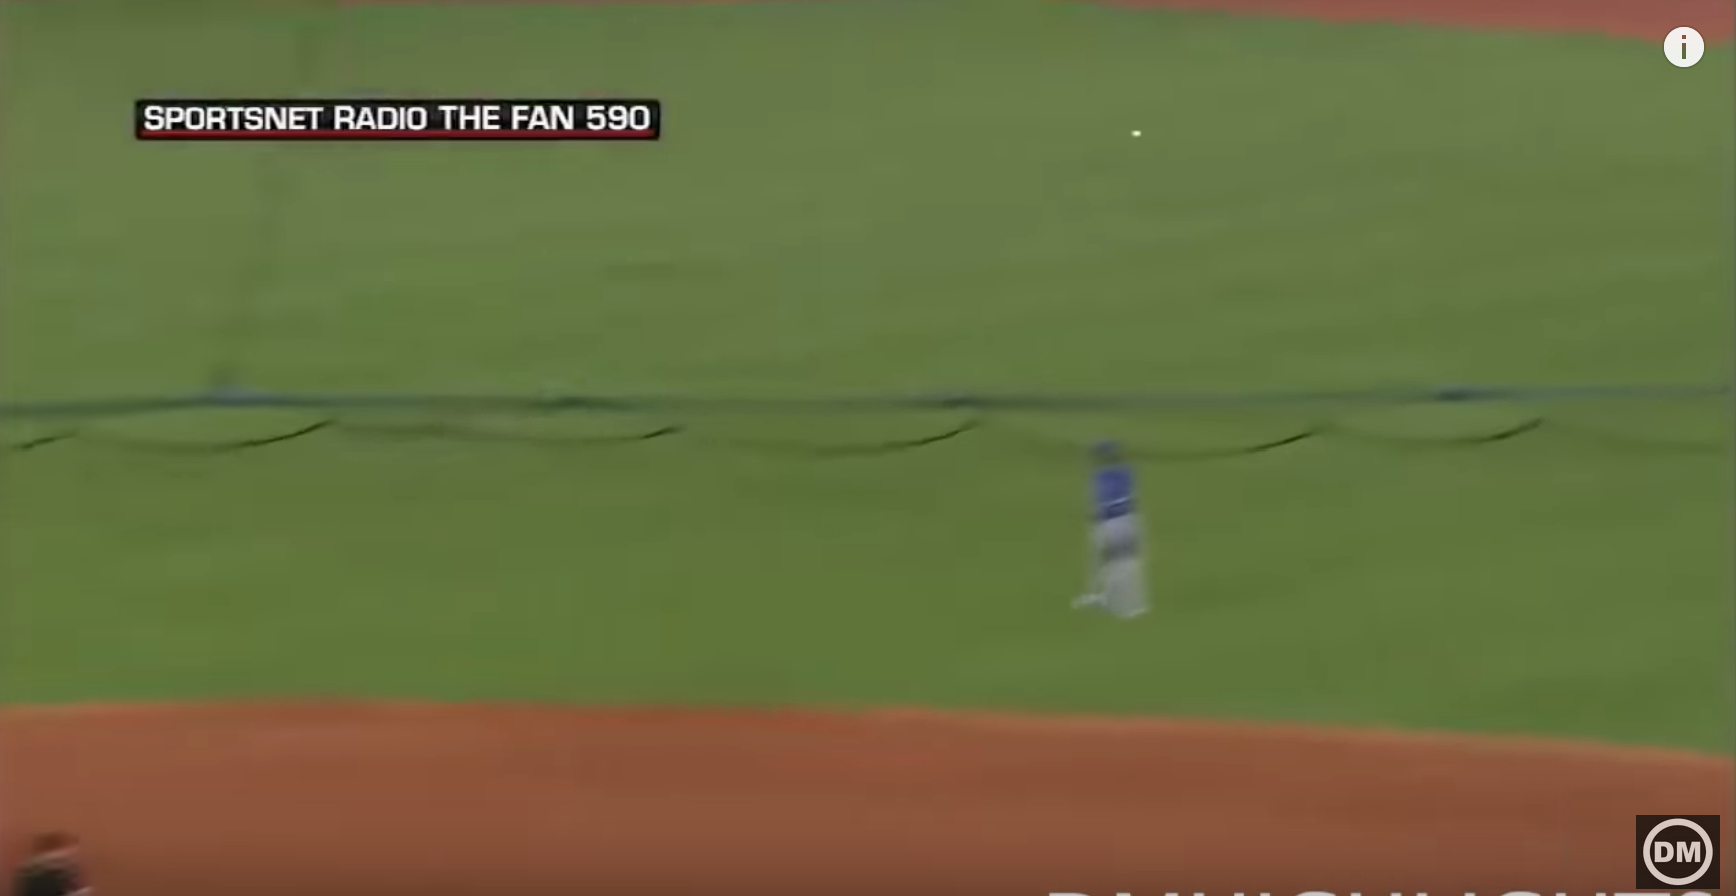ball: (1131, 125, 1144, 142)
